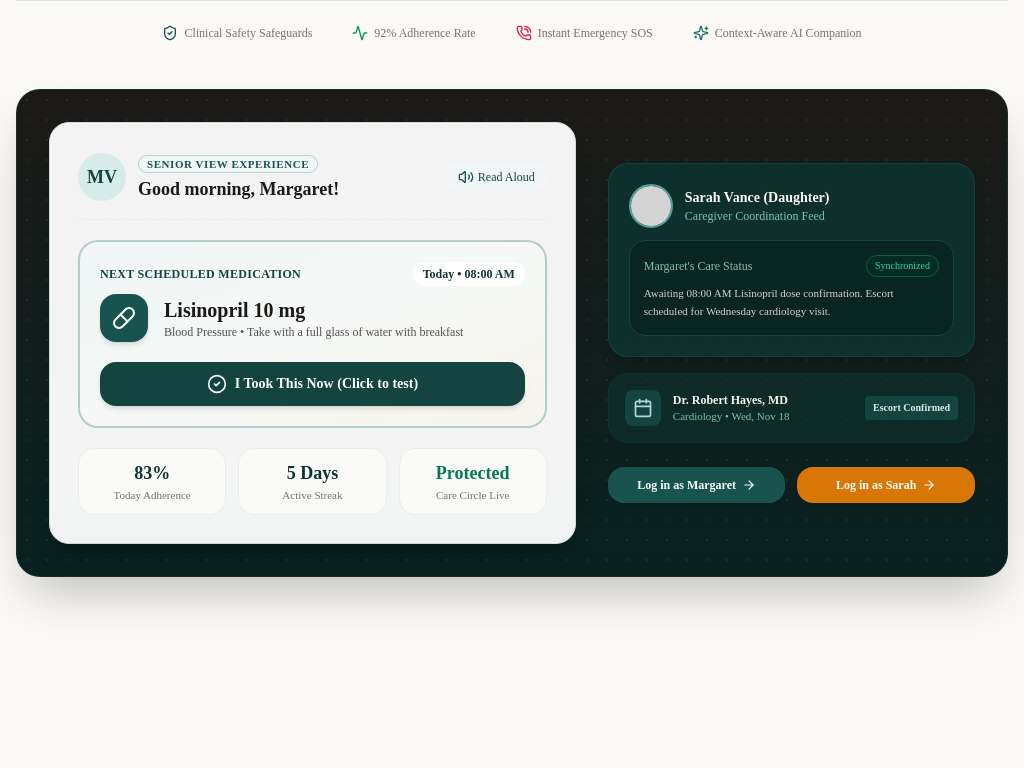
it: LandingPage Component › allows marking hero dose as taken with celebratory feedback
(page scrolled)
Click the button "I Took This Now (Click to test)".
click(312, 384)  # box x1=100 y1=362 x2=525 y2=406
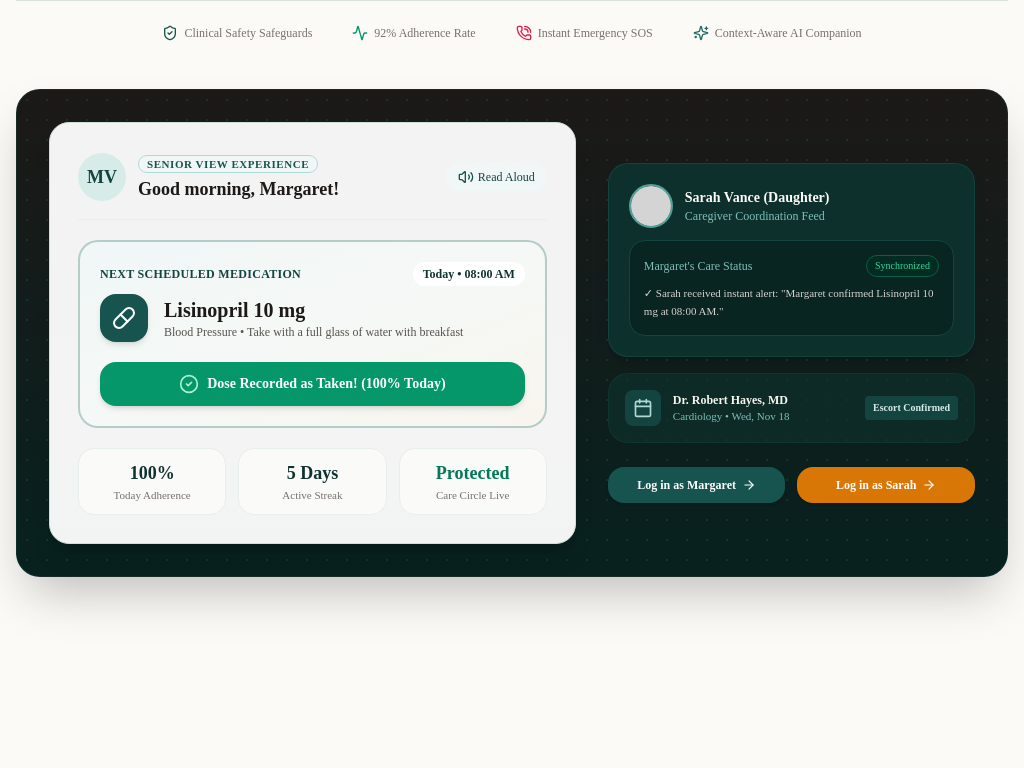
Expected: the text "Dose Recorded as Taken! (100% Today)" is shown, x1=207 y1=374 x2=446 y2=394
